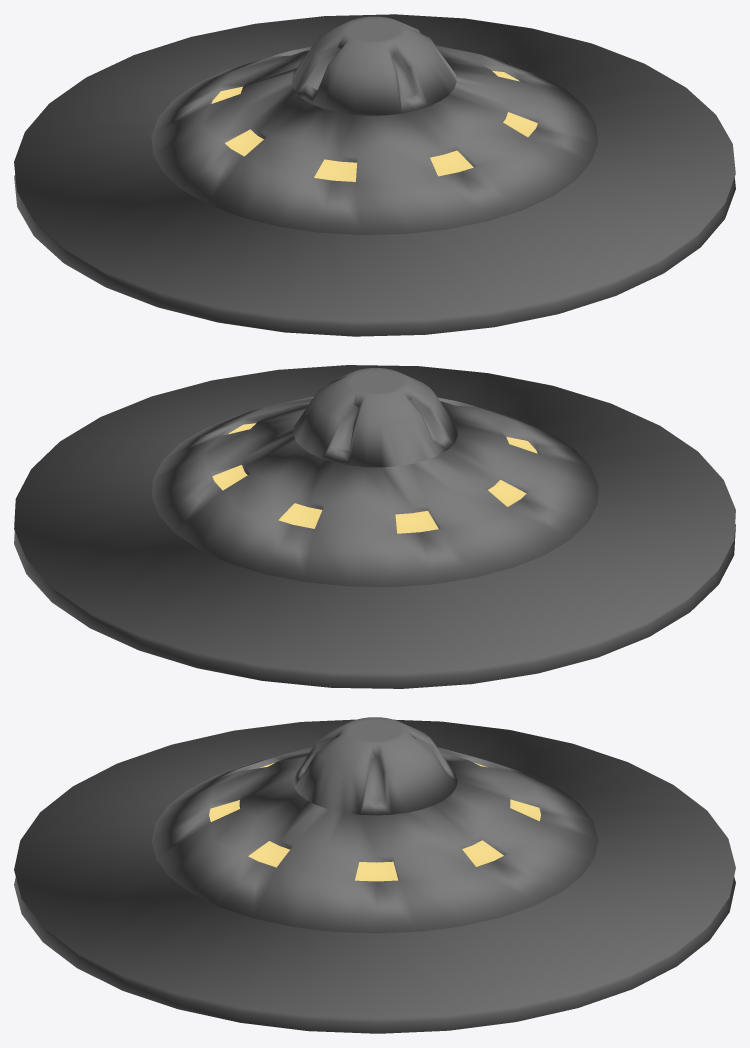
The model's file is UFO.glb.
3 views of the same model, one above another, from view 1: azimuth 30°, elevation 25°; view 2: azimuth 150°, elevation 25°; view 3: azimuth 270°, elevation 25° (orthographic).
Parts seen in each view (by area): view 1: UFO; view 2: UFO; view 3: UFO.
Boxes of the visible parts, box(x1,y1,x2,y2) form: UFO: box(14, 14, 735, 336); UFO: box(14, 365, 735, 688); UFO: box(14, 717, 735, 1033).
Size of the model in its own units: 2.81 by 0.8714 by 2.81.
